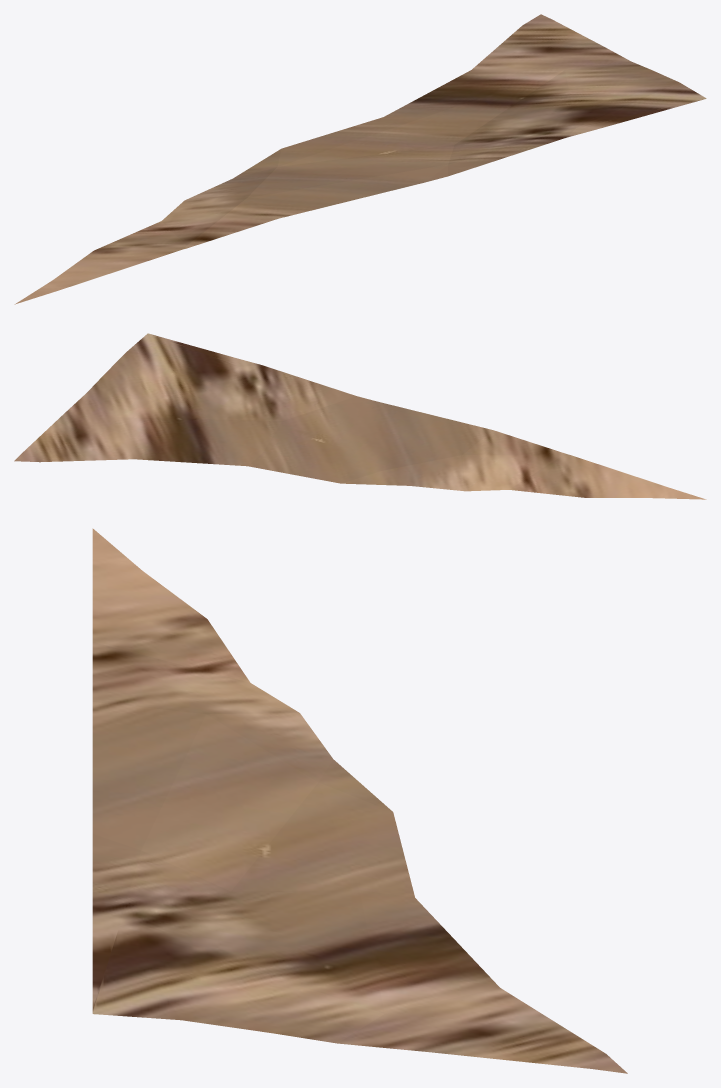
3 renders of one model, top to bottom at view 1: azimuth 30°, elevation 25°; view 2: azimuth 150°, elevation 25°; view 3: azimuth 270°, elevation 25°, orthographic. The views are drawn at different scales.
Size of the model in its own units: 1.53 by 0.0779 by 0.6328.
Materials: 1 (1 with a texture image).
